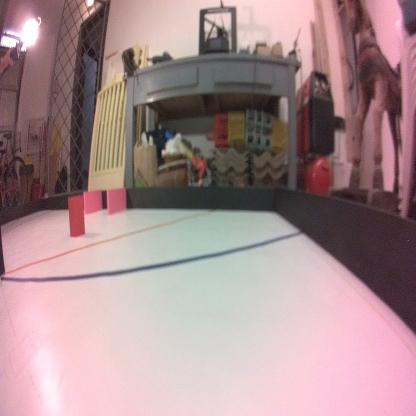magenta: (105, 186, 128, 216), (83, 186, 104, 215)
red: (66, 194, 85, 238)
